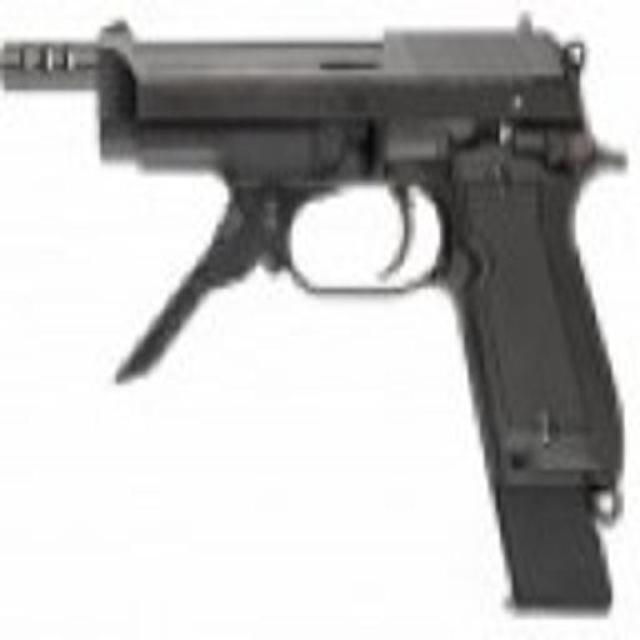pistol: (87, 10, 627, 506)
